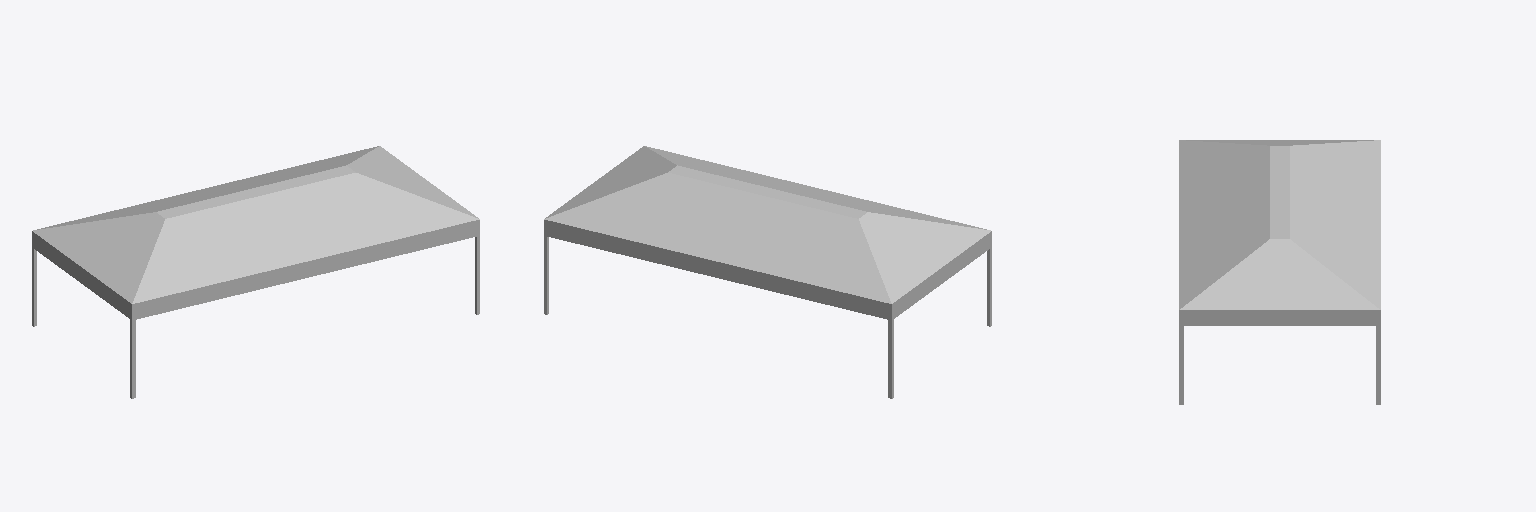
Rendered from tentLong.obj.
3 renders of one model, left to right at view 1: azimuth 30°, elevation 25°; view 2: azimuth 150°, elevation 25°; view 3: azimuth 270°, elevation 25°, orthographic.
Parts seen in each view (by area): view 1: tentLong; view 2: tentLong; view 3: tentLong.
Boxes of the visible parts, x1,y1,x2,y2 form: tentLong: [32, 146, 479, 398]; tentLong: [544, 146, 991, 398]; tentLong: [1179, 140, 1380, 404].
Bounding box in the file's own units: 20 × 7 × 10.